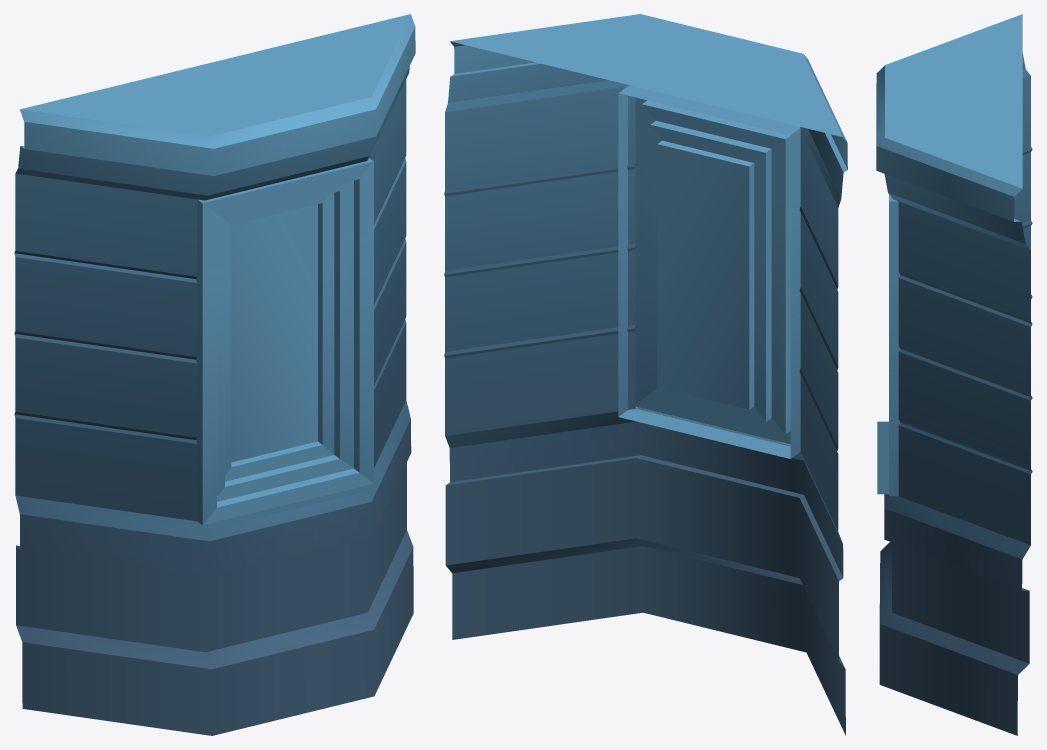
Rendered from Pillar 03.002.fbx.
3 views of the same model, side by side, from view 1: azimuth 30°, elevation 25°; view 2: azimuth 150°, elevation 25°; view 3: azimuth 270°, elevation 25° (orthographic). The views are drawn at different scales.
Parts seen in each view (by area): view 1: Pillar 03.002; view 2: Pillar 03.002; view 3: Pillar 03.002.
Part boxes in pixels (<box>): Pillar 03.002: <box>14,14,415,735</box>; Pillar 03.002: <box>444,14,847,735</box>; Pillar 03.002: <box>876,14,1032,735</box>.
Bounding box in the file's own units: 200 × 292 × 75.66.
